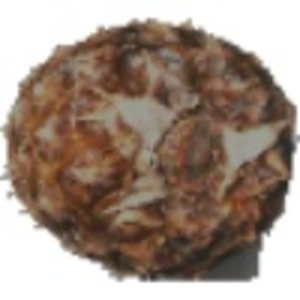abacaxi: (6, 12, 296, 268)
